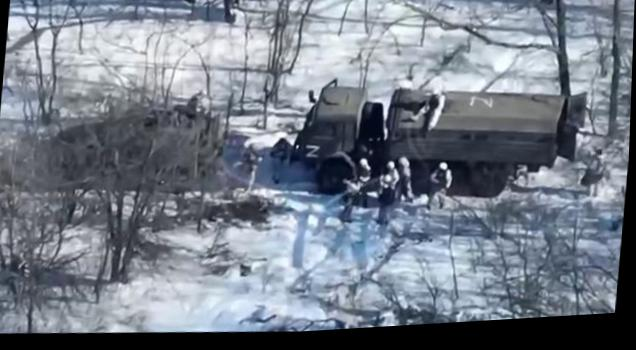armored_car: (35, 79, 229, 204)
person: (408, 83, 447, 131), (580, 143, 608, 198), (424, 160, 453, 211), (334, 171, 362, 223), (238, 141, 265, 193), (265, 135, 291, 184), (372, 172, 396, 225), (392, 154, 417, 202), (350, 156, 372, 209), (381, 158, 401, 199)
truck: (287, 62, 590, 239)
